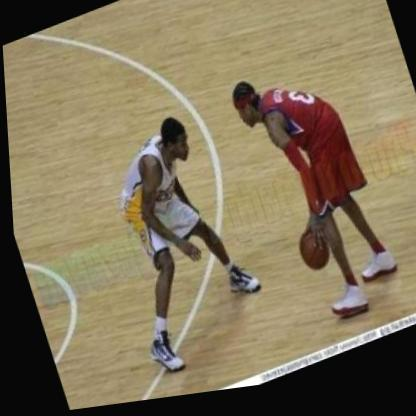basketball: (284, 227, 337, 289)
